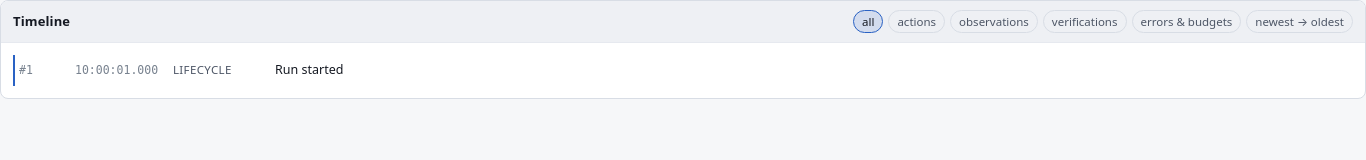
Test: Timeline — empty states › says the same thing when a filter excludes everything there is
Step 1. Click the button with test id "timeline-filter-actions" → (917, 22), box [888,10,945,33]
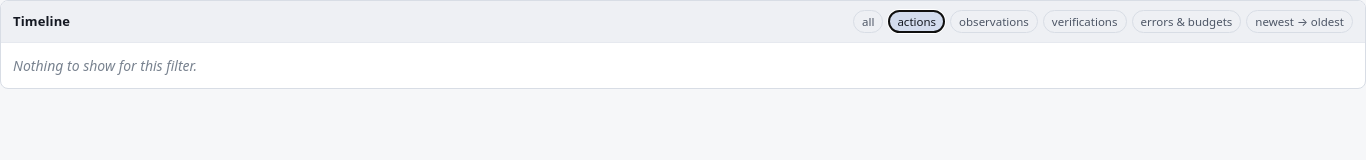
Check: the text "Nothing to show for this filter." is shown, box [13,56,197,75]
